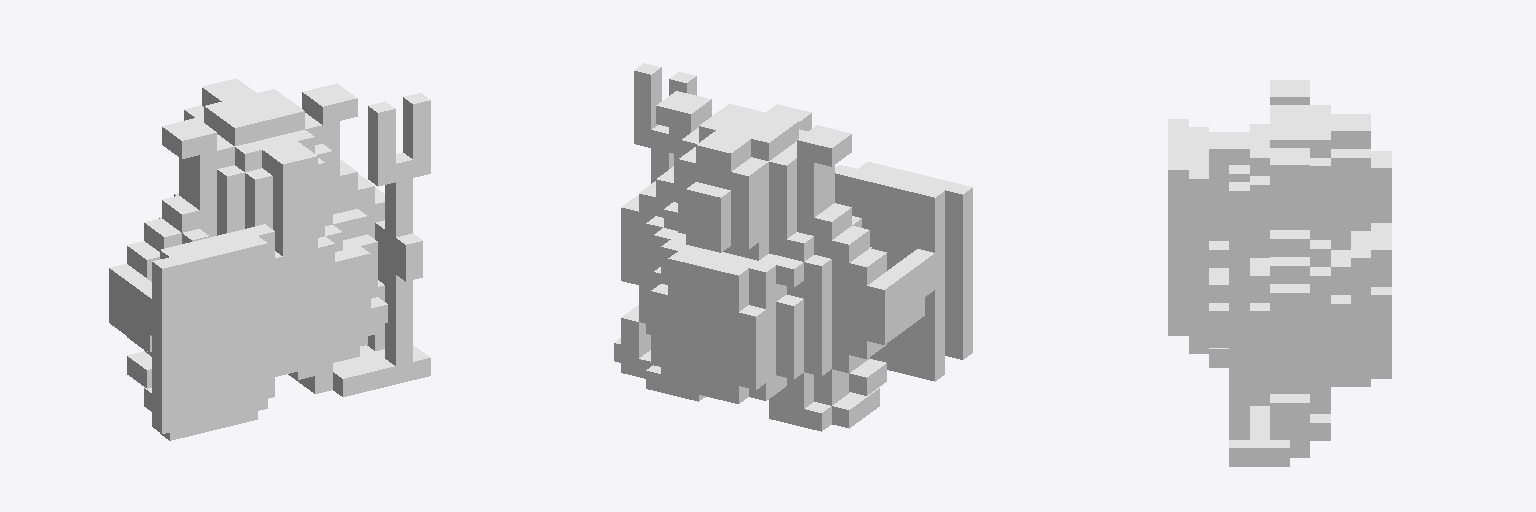
File: ArmosBrown.vox.obj
The picture shows the model from 3 angles: view 1: azimuth 30°, elevation 25°; view 2: azimuth 150°, elevation 25°; view 3: azimuth 270°, elevation 25°; orthographic projection.
Parts seen in each view (by area): view 1: object 1; view 2: object 1; view 3: object 1.
Part boxes in pixels (left/top/right/bottom): object 1: left=109, top=78, right=430, bottom=440; object 1: left=614, top=63, right=972, bottom=431; object 1: left=1168, top=80, right=1391, bottom=466.
Size of the model in its own units: 1.7 by 1.5 by 1.1.